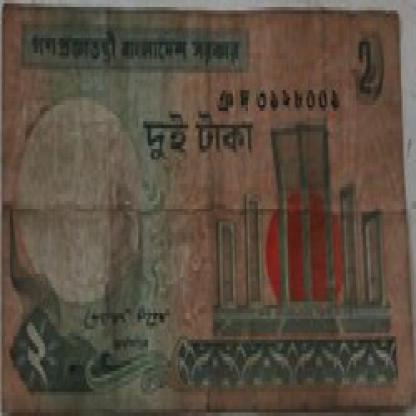two taka: (15, 309, 57, 395), (351, 24, 378, 101)
